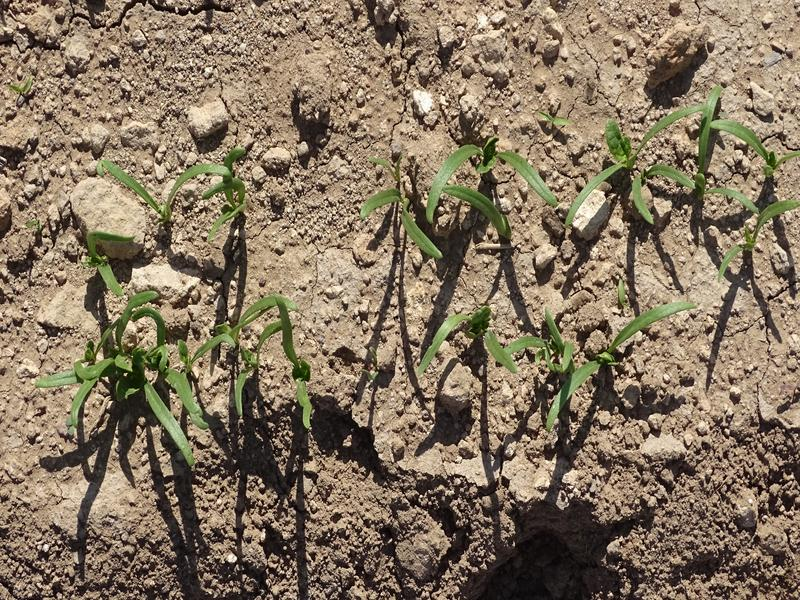Espinaca: (45, 296, 317, 457), (419, 292, 693, 428), (565, 115, 792, 247), (361, 141, 555, 248), (97, 153, 254, 236), (81, 235, 135, 293)
